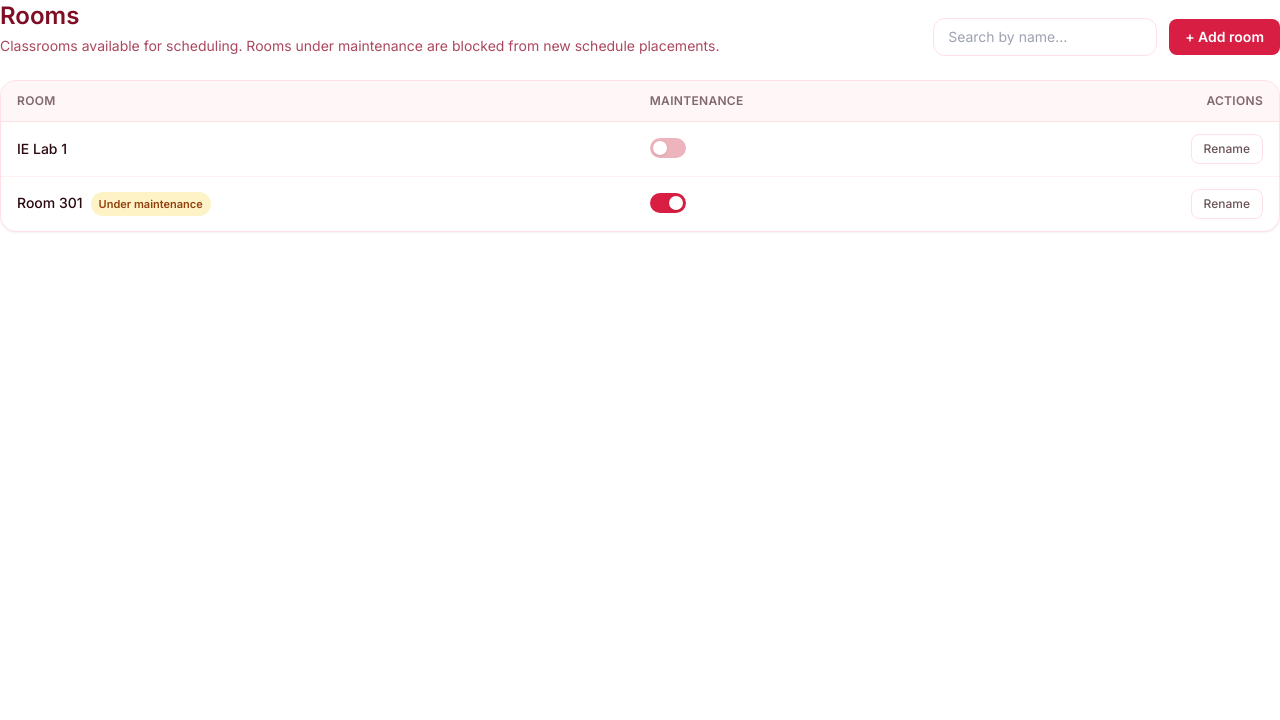
RoomsPage — create › keeps the dialog open and shows the server error for a duplicate name
Click the button "+ Add room" at {"x": 1225, "y": 37}, box 1169,19 -> 1279,55
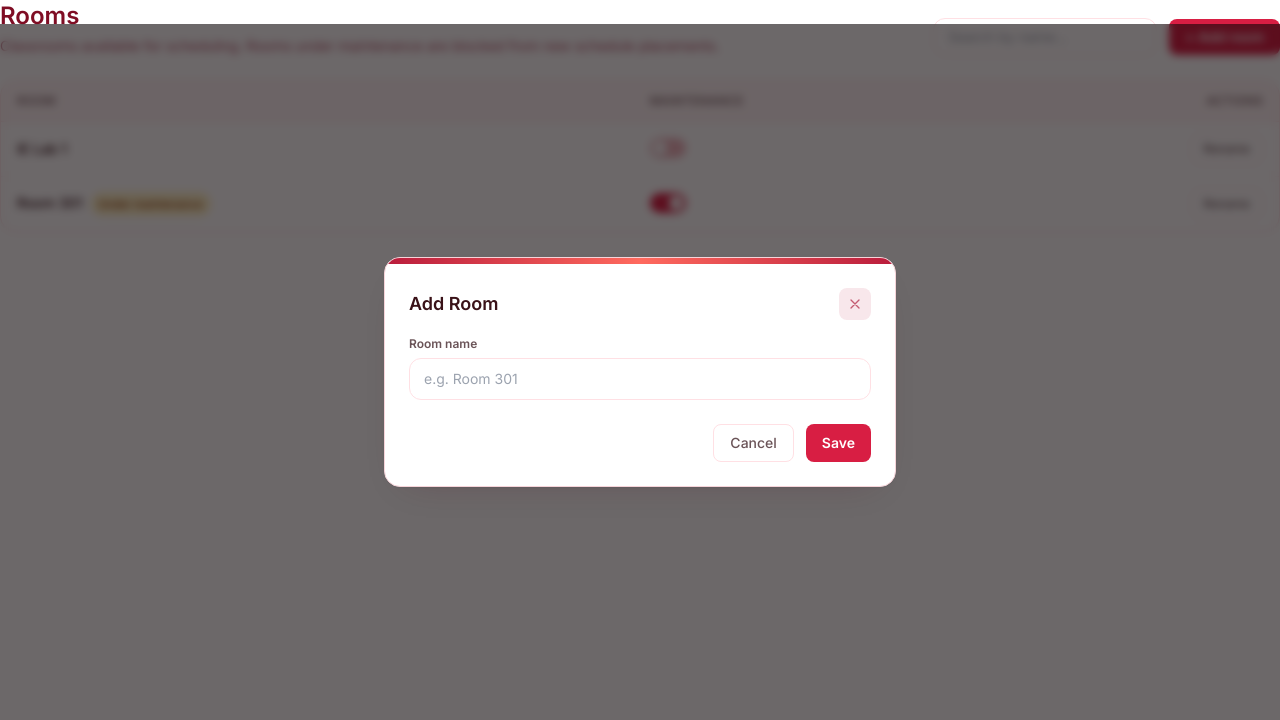
Check: the dialog is shown, box 384,257 -> 896,487
Type "IE Lab 1" into the field labelled "Room name" at {"x": 640, "y": 379}, box 409,358 -> 871,400
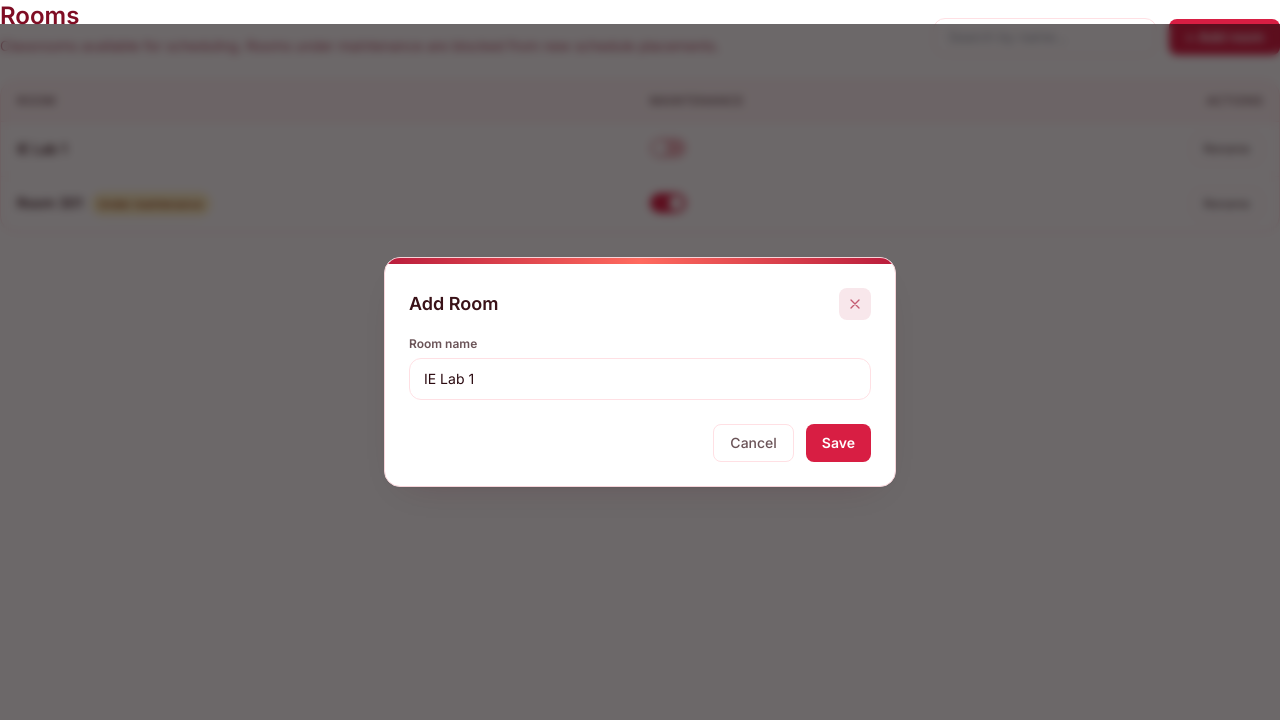
Click the button "Save" at {"x": 838, "y": 443}, box 806,424 -> 871,462
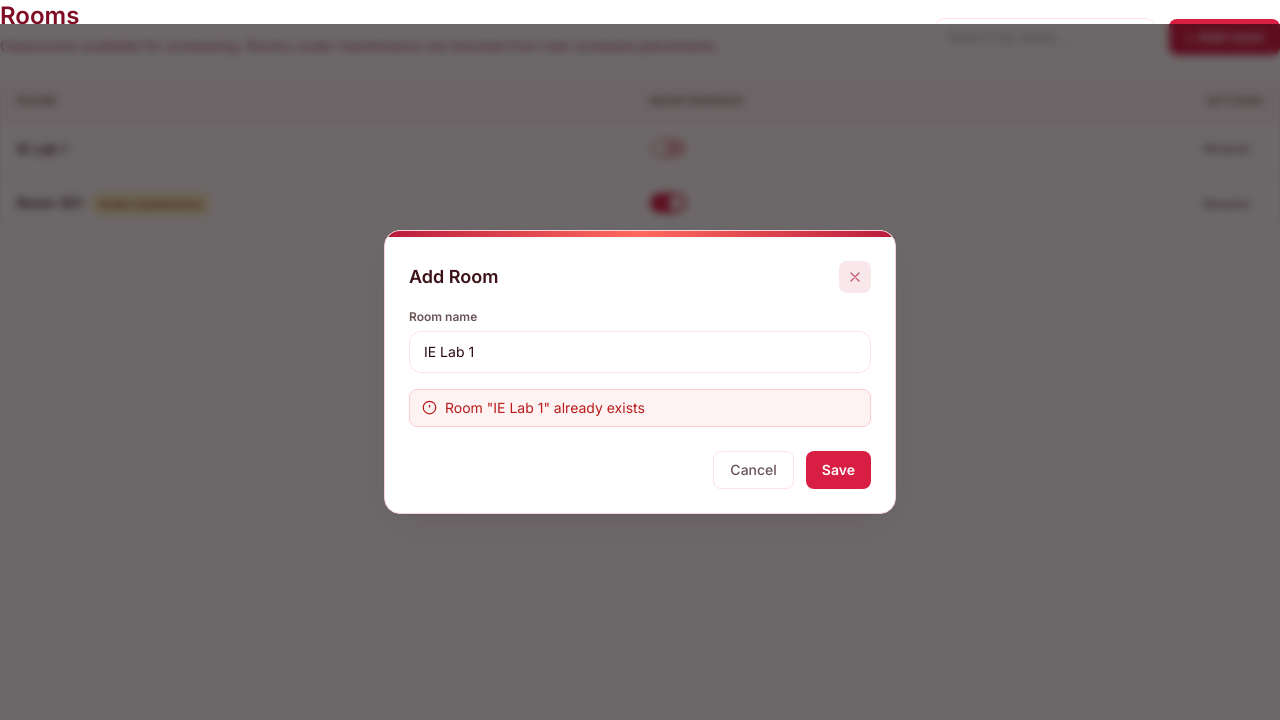
Check: the dialog is shown, box 384,230 -> 896,514
Check: the message shows "already exists", box 445,399 -> 645,416
